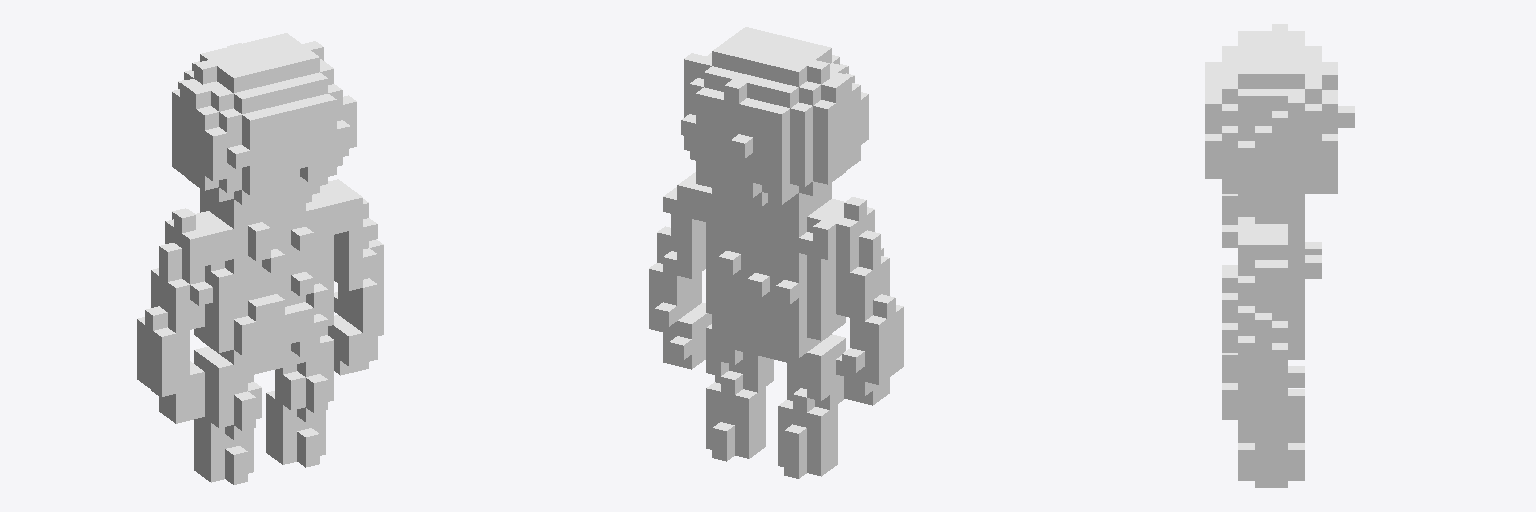
File: Swarm.obj
3 views of the same model, side by side, from view 1: azimuth 30°, elevation 25°; view 2: azimuth 150°, elevation 25°; view 3: azimuth 270°, elevation 25° (orthographic).
Parts seen in each view (by area): view 1: object 1; view 2: object 1; view 3: object 1.
Boxes of the visible parts, <box> form: object 1: <box>137,33,383,484</box>; object 1: <box>649,27,903,478</box>; object 1: <box>1205,24,1354,487</box>.
Bounding box in the file's own units: 1.6 × 2.7 × 0.9.